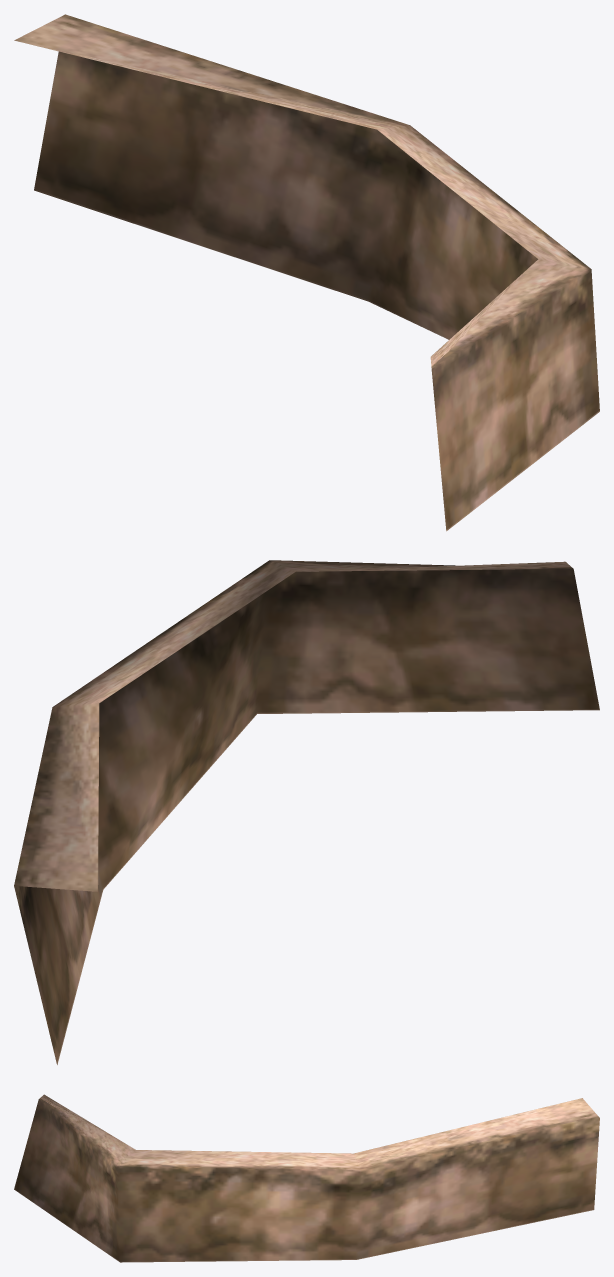
Rendered from EKH_CAVERNS_PS_CA_EDGEGRAB8374656.fbx.
The picture shows the model from 3 angles, top to bottom: view 1: azimuth 30°, elevation 25°; view 2: azimuth 150°, elevation 25°; view 3: azimuth 270°, elevation 25°; orthographic projection. The views are drawn at different scales.
Visible parts, largest first — view 1: EKH_CAVERNS_PS_CA_EDGEGRAB8374656; view 2: EKH_CAVERNS_PS_CA_EDGEGRAB8374656; view 3: EKH_CAVERNS_PS_CA_EDGEGRAB8374656.
Part boxes in pixels (bbox=[...]): EKH_CAVERNS_PS_CA_EDGEGRAB8374656: bbox=[14, 14, 599, 531]; EKH_CAVERNS_PS_CA_EDGEGRAB8374656: bbox=[14, 560, 599, 1064]; EKH_CAVERNS_PS_CA_EDGEGRAB8374656: bbox=[14, 1094, 599, 1262].
Bounding box in the file's own units: 8077 × 5551 × 27222.
Materials: 1 (1 with a texture image).
